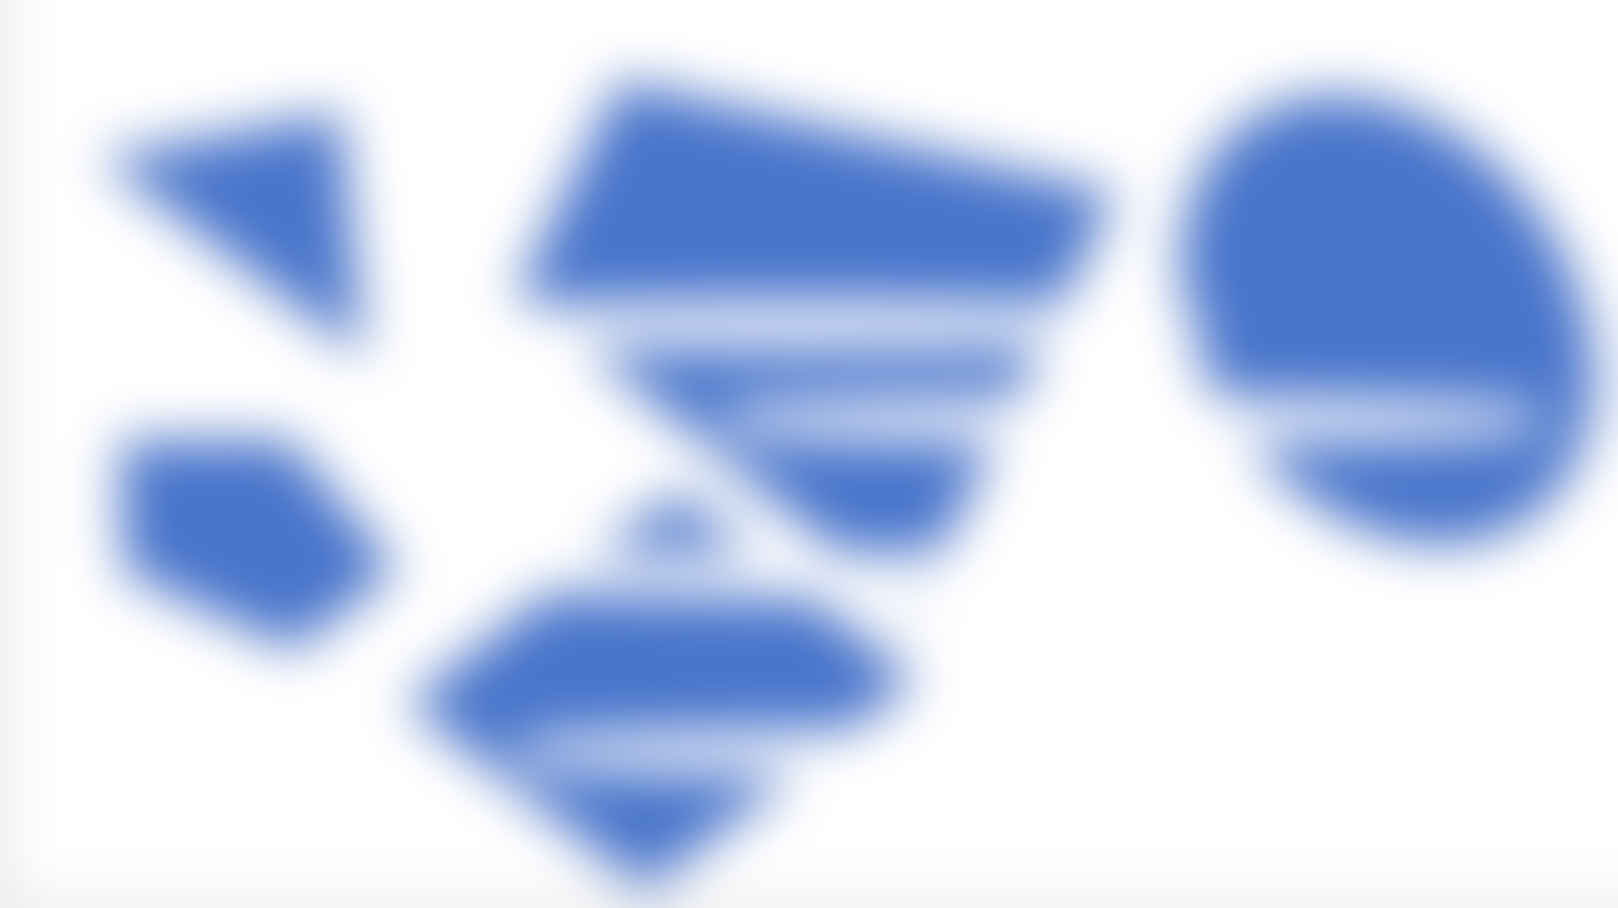circle: (1173, 76, 1590, 573)
parallelogram: (440, 488, 932, 908)
pentagon: (104, 405, 394, 648)
trapezium: (521, 57, 1138, 573)
triangle: (102, 77, 415, 326)
